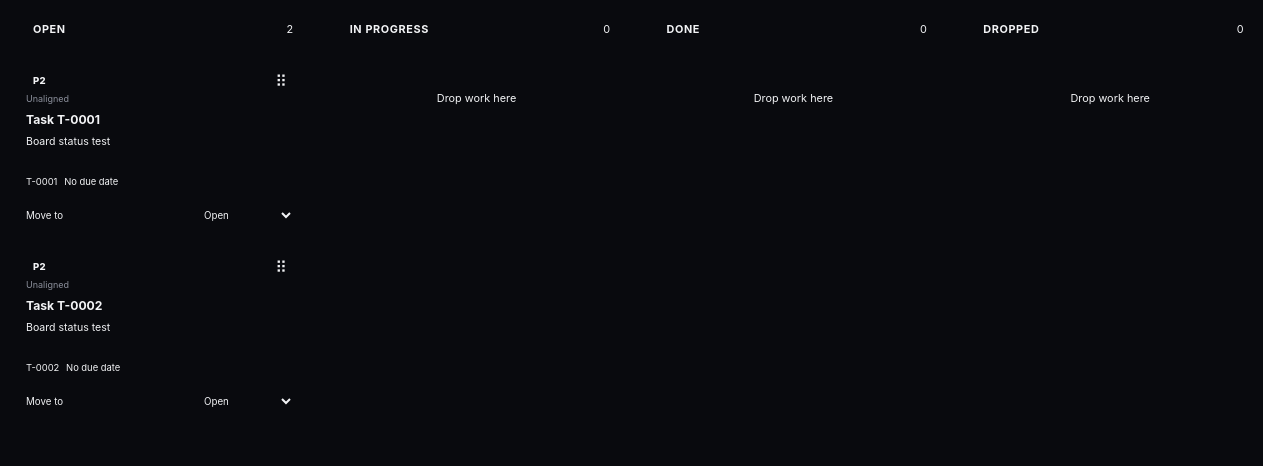
Test: BoardView status changes › restores only the failed card and surfaces the rejection
Select "In progress" in the dropdown labelled "Move to" below "Task T-0001" at x=244, y=215, box [194,204,294,226]
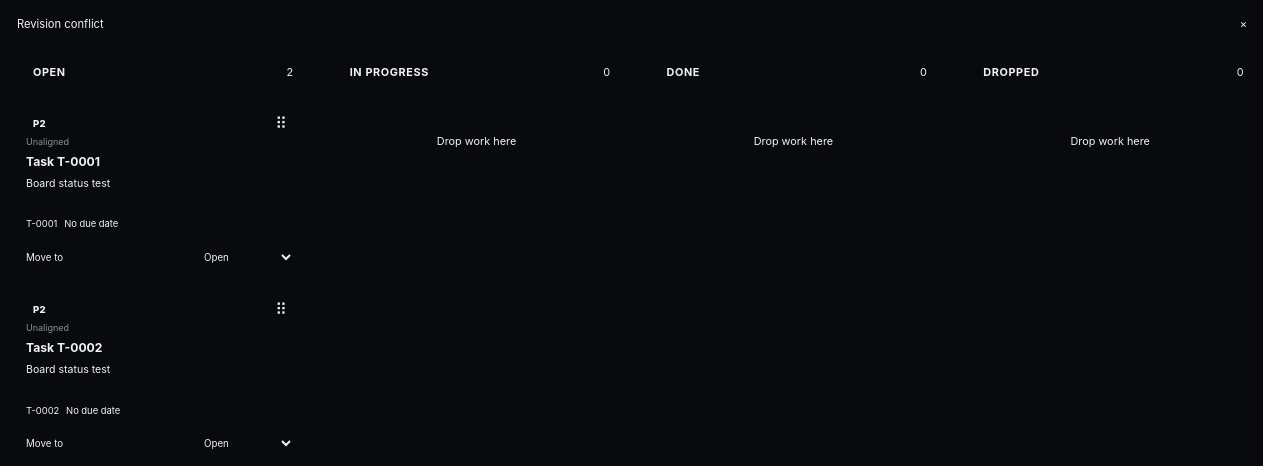
Check: the message shows "Revision conflict", box [17,17,104,31]
